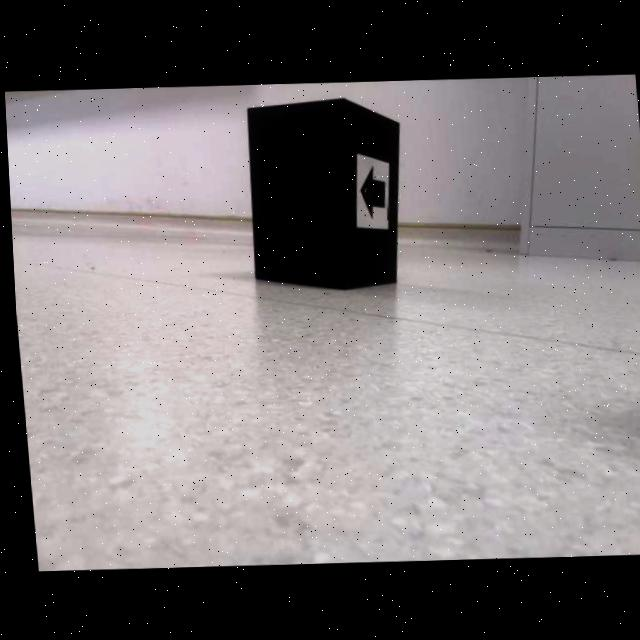LEFT: (358, 164, 384, 220)
